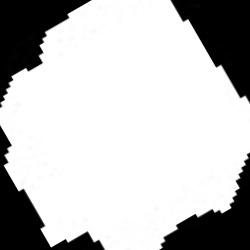spot: (1, 1, 249, 250)
